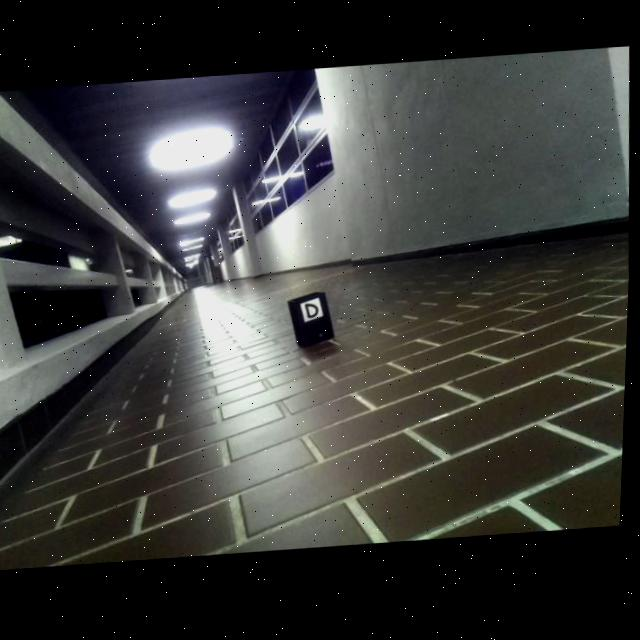D: (307, 306, 321, 320)
